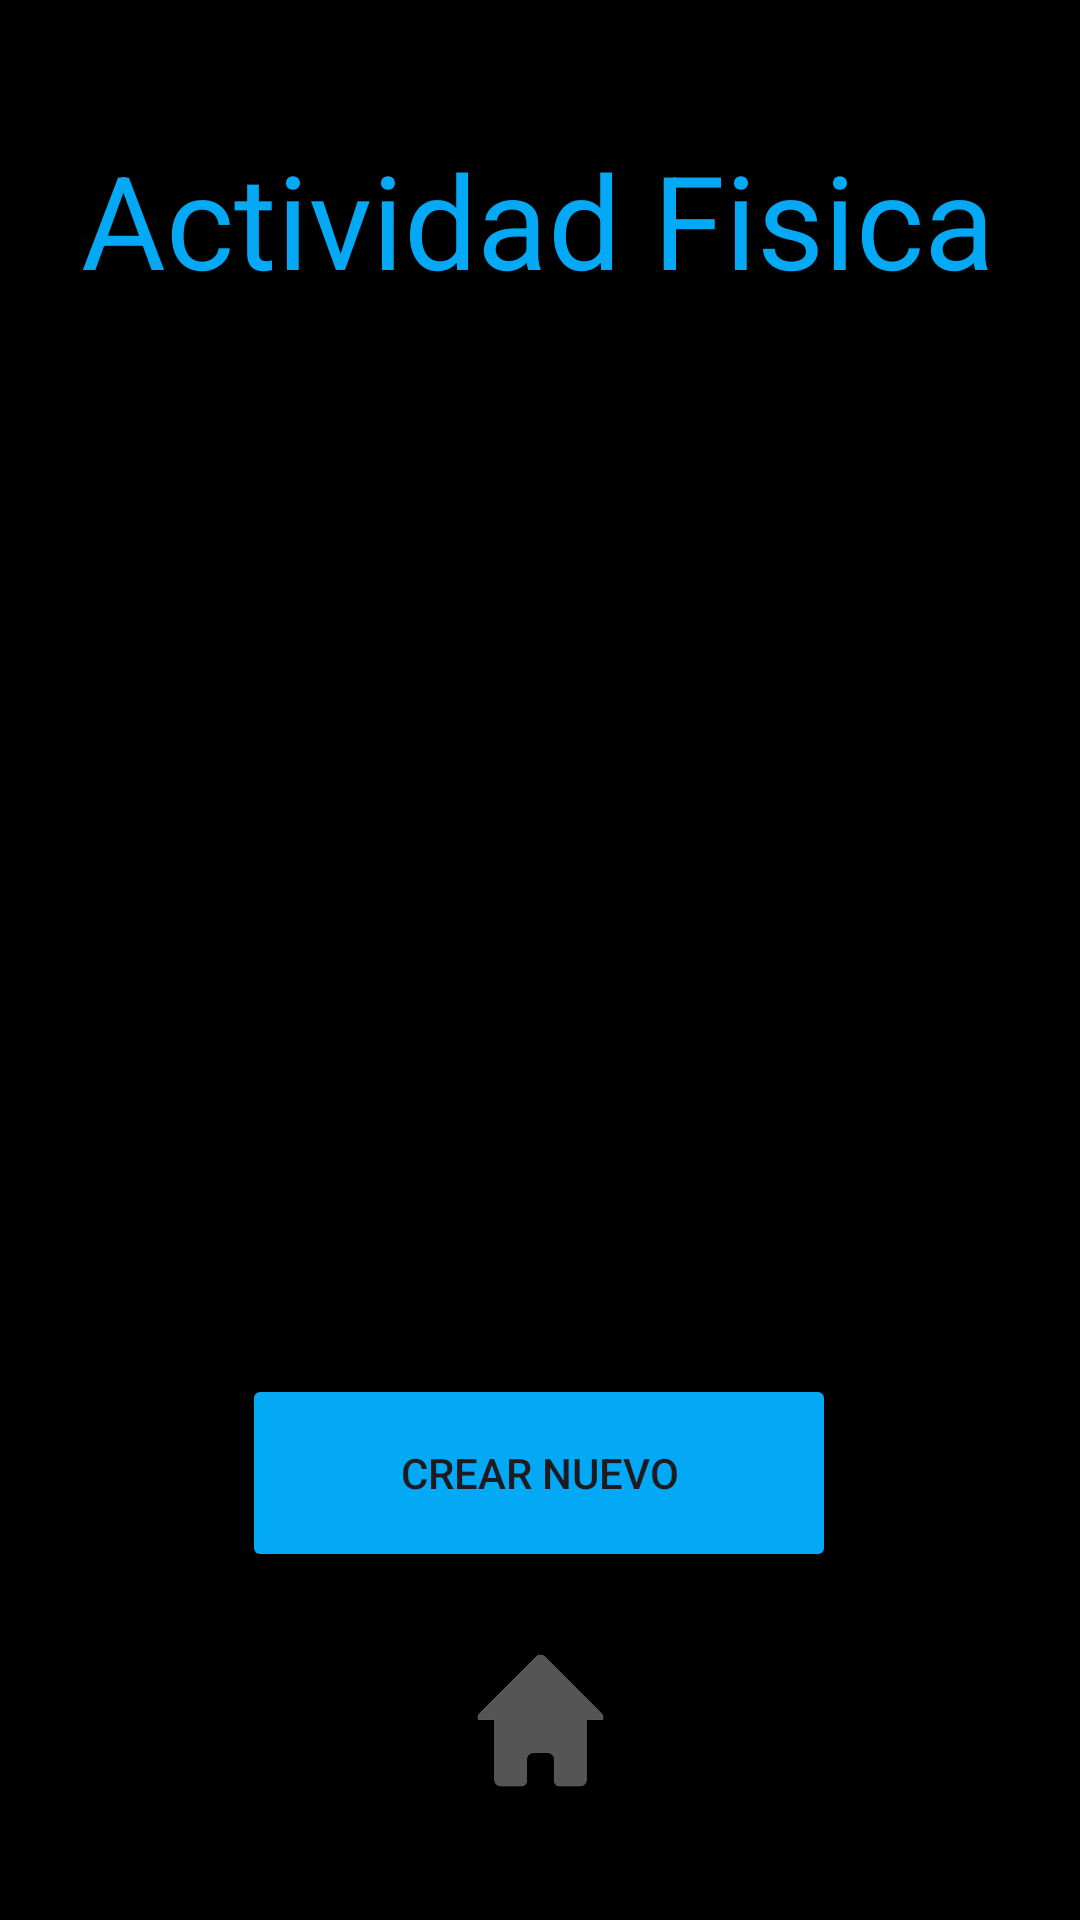

Named icons in this screenshot (1080px×1920px) and their bounding boxes, (left=x1, top=y1, right=x2, bottom=y2):
casa: (left=477, top=1654, right=604, bottom=1787)
